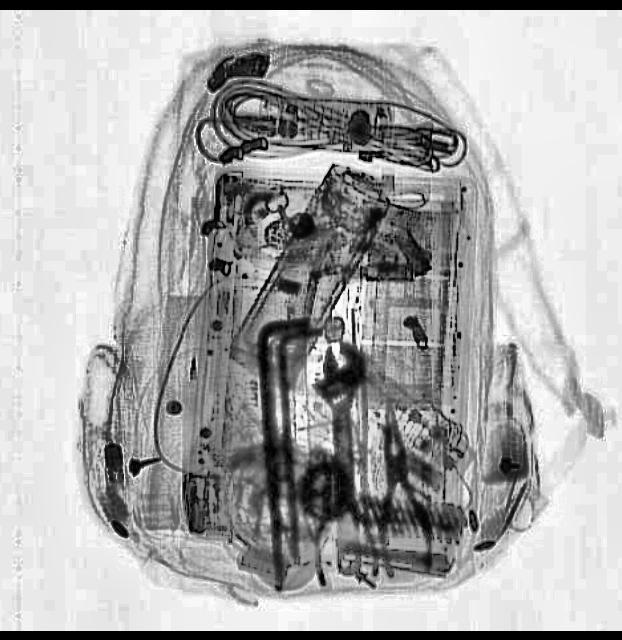Pliers: (362, 398, 434, 580)
Wrench: (308, 342, 376, 580)
